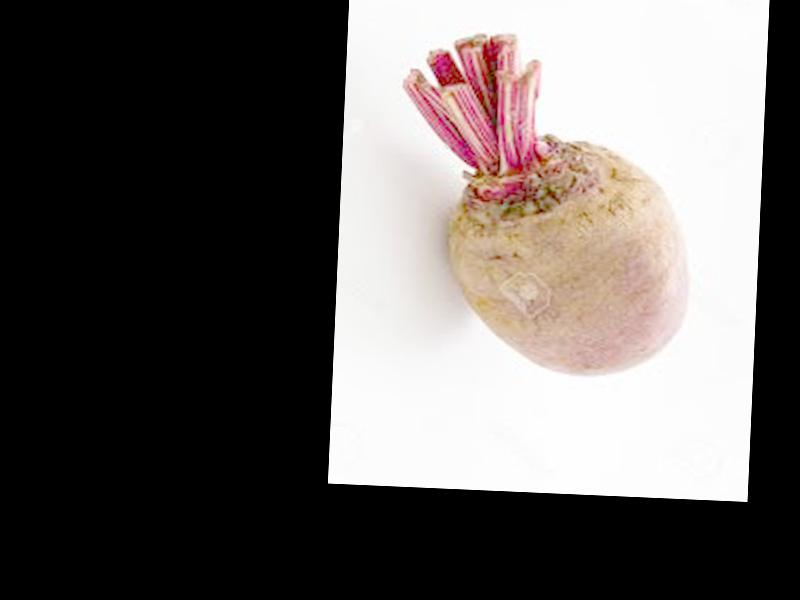Beet: (387, 30, 700, 381)
